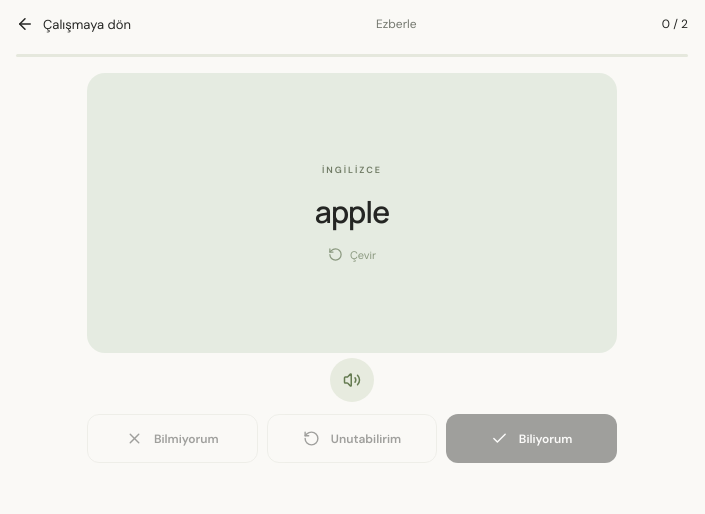
Test: study flows › cards require a flip, lock double clicks, and advance only after storage succeeds
Check: the button "Biliyorum" is disabled, box [446,414,617,463]
Click the button with aria-label "Türkçe anlamı göster". click: (352, 213)
box: [87,73,617,353]
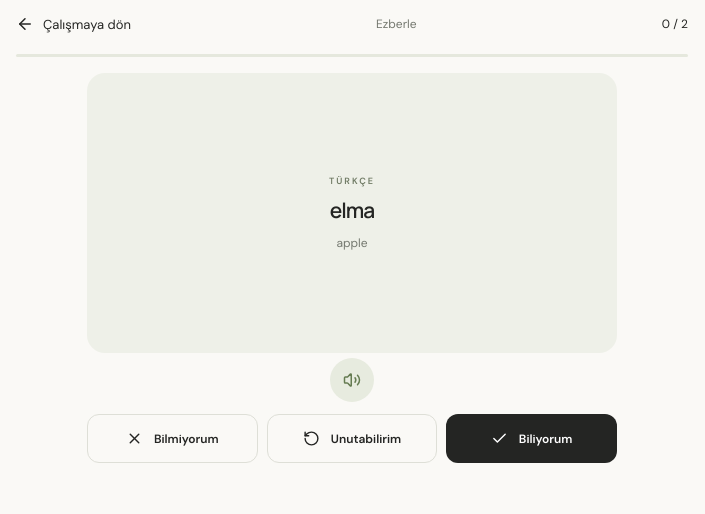
Click the button "Biliyorum". click: (532, 438)
box: [446,414,617,463]
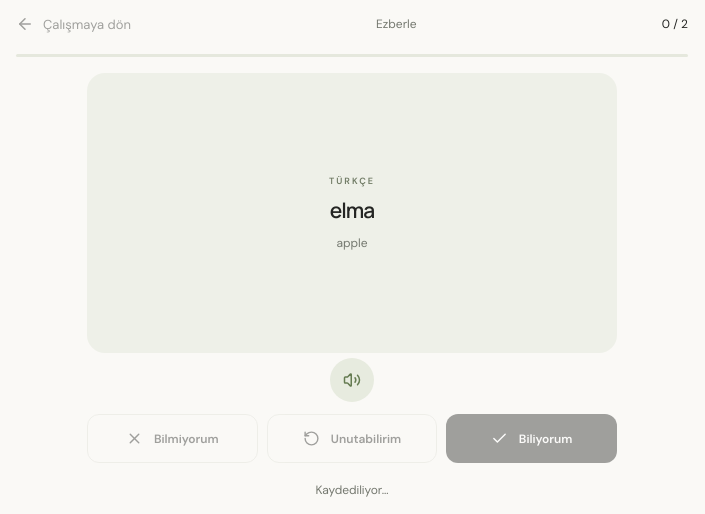
Click the button "Biliyorum". click: (532, 438)
box: [446,414,617,463]
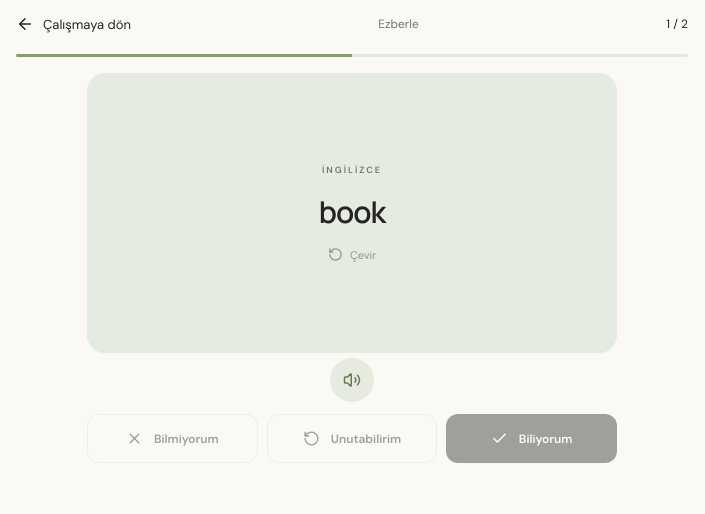
Check: the text "1 / 2" is shown, box [666,16,688,32]
Check: the text "book" is shown, box [319,192,385,231]
